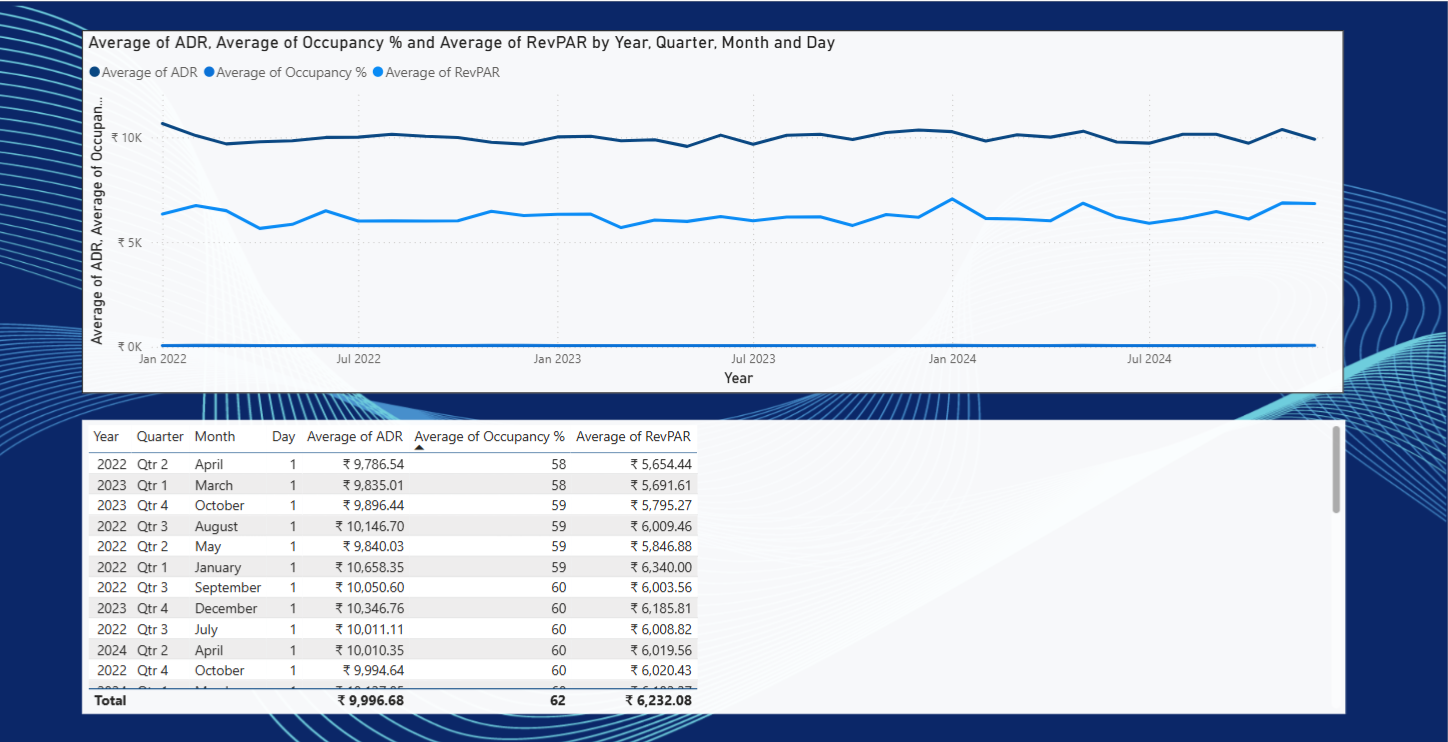

The dashboard page shown, as its layout file describes it:
{"tool":"powerbi","page":{"name":"Page 4","canvas":[1280,720],"ordinal":3},"visuals":[{"type":"tableEx","fields":{"Values":["MasterData.MonthStart.Variation.Date Hierarchy.Year","MasterData.MonthStart.Variation.Date Hierarchy.Quarter","MasterData.MonthStart.Variation.Date Hierarchy.Month","MasterData.MonthStart.Variation.Date Hierarchy.Day","Avg(MasterData.ADR)","Avg(MasterData.Occupancy %)","Avg(MasterData.RevPAR)"]},"box":[34.8,405.5,1209.1,286.1],"z":0},{"type":"lineChart","fields":{"Y":["Avg(MasterData.ADR)","Avg(MasterData.Occupancy %)","Avg(MasterData.RevPAR)"],"Category":["MasterData.MonthStart.Variation.Date Hierarchy.Year","MasterData.MonthStart.Variation.Date Hierarchy.Quarter","MasterData.MonthStart.Variation.Date Hierarchy.Month","MasterData.MonthStart.Variation.Date Hierarchy.Day"]},"box":[18.7,28.6,1222.8,352],"z":1000}]}

Visuals, with their boxes in screenshot pixels (x1, y1, x2, y2):
tableEx - MasterData.MonthStart.Variation.Date Hierarchy.Year x MasterData.MonthStart.Variation.Date Hierarchy.Quarter: (111, 416, 1341, 707)
lineChart - Avg(MasterData.ADR) x Avg(MasterData.Occupancy %): (94, 33, 1339, 391)
